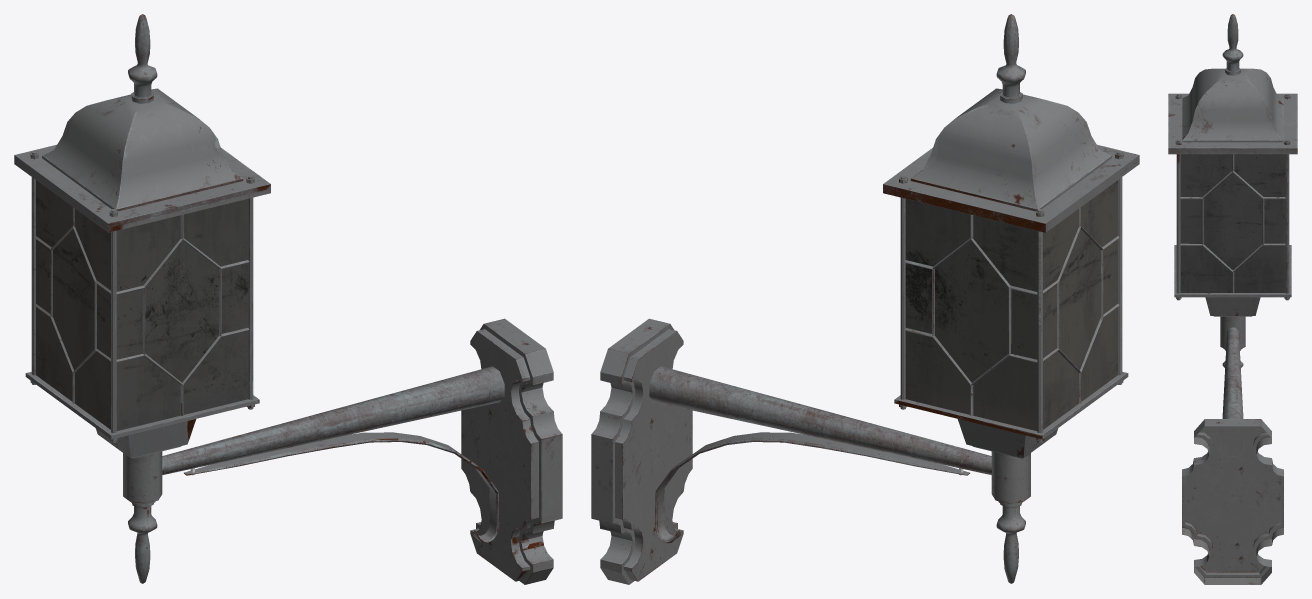
File: lamp .fbx
3 renders of one model, left to right at view 1: azimuth 30°, elevation 25°; view 2: azimuth 150°, elevation 25°; view 3: azimuth 270°, elevation 25°, orthographic. The views are drawn at different scales.
Visible parts, largest first — view 1: Lamp_glass, Lamp_Main, Lamp1, Lamp_Pole, Lamp_Stick, Lamp_Cagak, Lamp_Pole_Base, Lamp_Glass_Wire_1, Lamp_Tip_1, Lamp_Tip_2, Lamp_Glass_Wire_2; view 2: Lamp_glass, Lamp_Main, Lamp1, Lamp_Pole, Lamp_Stick, Lamp_Cagak, Lamp_Pole_Base, Lamp_Glass_Wire_1, Lamp_Tip_1, Lamp_Tip_2, Lamp_Glass_Wire_2; view 3: Lamp_glass, Lamp1, Lamp_Main, Lamp_Pole, Lamp_Stick, Lamp_Glass_Wire_2, Lamp_Tip_1, Lamp_Pole_Base.
Part boxes in pixels (left/top/right/bottom): Lamp_glass: left=36, top=180, right=248, bottom=430; Lamp_Main: left=14, top=88, right=270, bottom=458; Lamp1: left=461, top=318, right=562, bottom=584; Lamp_Pole: left=162, top=366, right=504, bottom=474; Lamp_Stick: left=31, top=151, right=253, bottom=442; Lamp_Cagak: left=184, top=432, right=499, bottom=543; Lamp_Pole_Base: left=123, top=451, right=162, bottom=505; Lamp_Glass_Wire_1: left=116, top=214, right=249, bottom=415; Lamp_Tip_1: left=128, top=14, right=157, bottom=103; Lamp_Tip_2: left=128, top=503, right=157, bottom=583; Lamp_Glass_Wire_2: left=34, top=207, right=110, bottom=403; Lamp_glass: left=905, top=180, right=1117, bottom=430; Lamp_Main: left=883, top=88, right=1139, bottom=458; Lamp1: left=591, top=318, right=692, bottom=584; Lamp_Pole: left=649, top=366, right=991, bottom=474; Lamp_Stick: left=900, top=151, right=1122, bottom=442; Lamp_Cagak: left=654, top=432, right=969, bottom=543; Lamp_Pole_Base: left=991, top=451, right=1030, bottom=505; Lamp_Glass_Wire_1: left=904, top=214, right=1037, bottom=415; Lamp_Tip_1: left=996, top=14, right=1025, bottom=103; Lamp_Tip_2: left=996, top=503, right=1025, bottom=583; Lamp_Glass_Wire_2: left=1043, top=207, right=1119, bottom=403; Lamp_glass: left=1180, top=154, right=1285, bottom=292; Lamp1: left=1182, top=419, right=1283, bottom=584; Lamp_Main: left=1168, top=68, right=1297, bottom=316; Lamp_Pole: left=1222, top=327, right=1243, bottom=418; Lamp_Stick: left=1176, top=93, right=1289, bottom=300; Lamp_Glass_Wire_2: left=1180, top=154, right=1285, bottom=292; Lamp_Tip_1: left=1222, top=14, right=1243, bottom=75; Lamp_Pole_Base: left=1220, top=316, right=1245, bottom=349.
Size of the model in its own units: 0.2818 by 0.0988 by 0.3738.
Materials: 12 (11 with a texture image).
